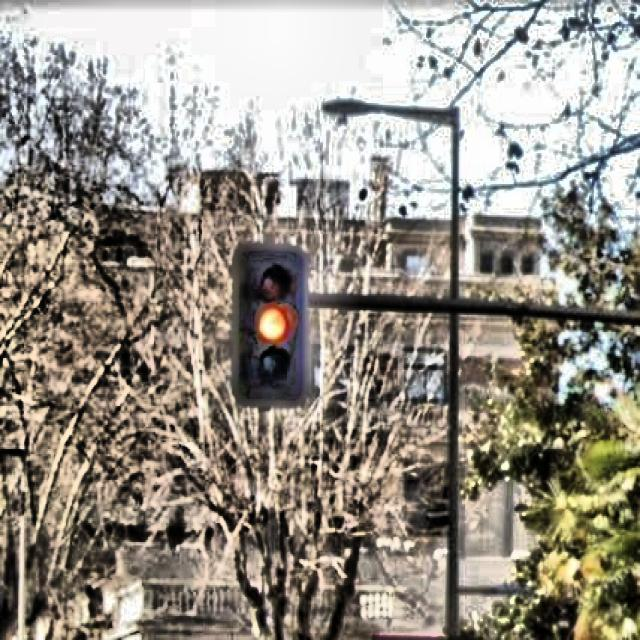yellow: (254, 252, 294, 398)
